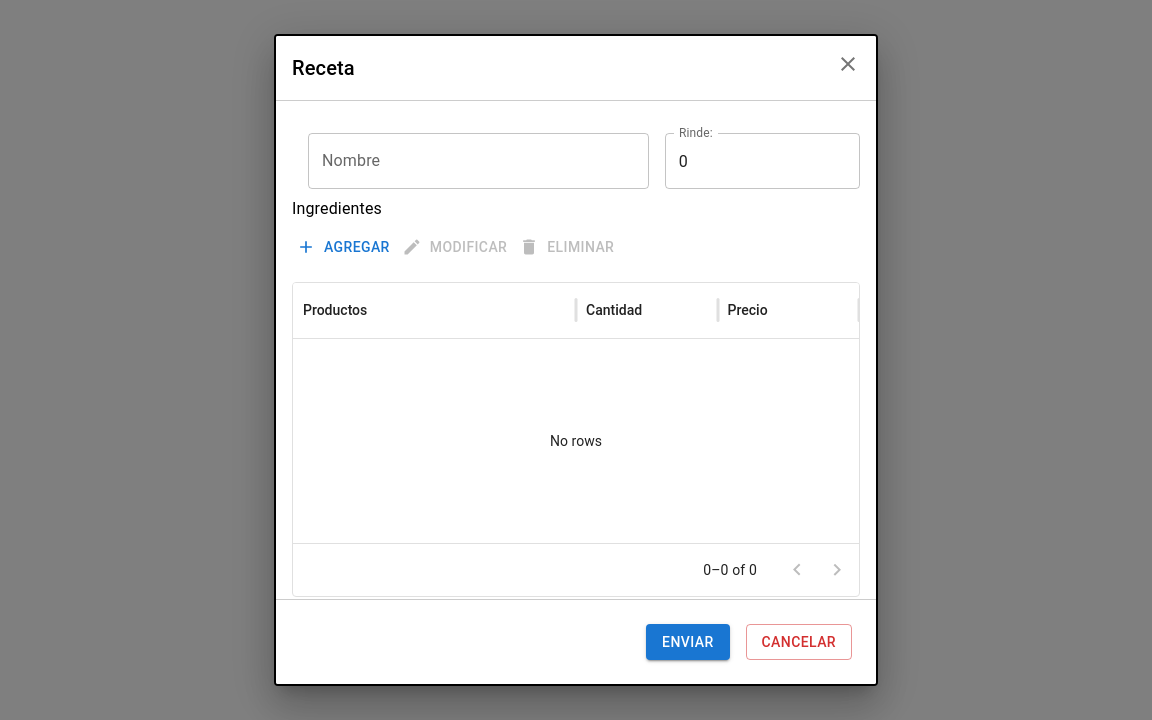
RecetaFormModal › debería mostrar error si se envía sin rinde
expect the button with test id "enviar-btn" is shown: met, box [646,624,730,660]
Step 1. Type "Torta" into the field labelled "Nombre" → coordinates (478, 161), box [308,133,649,189]
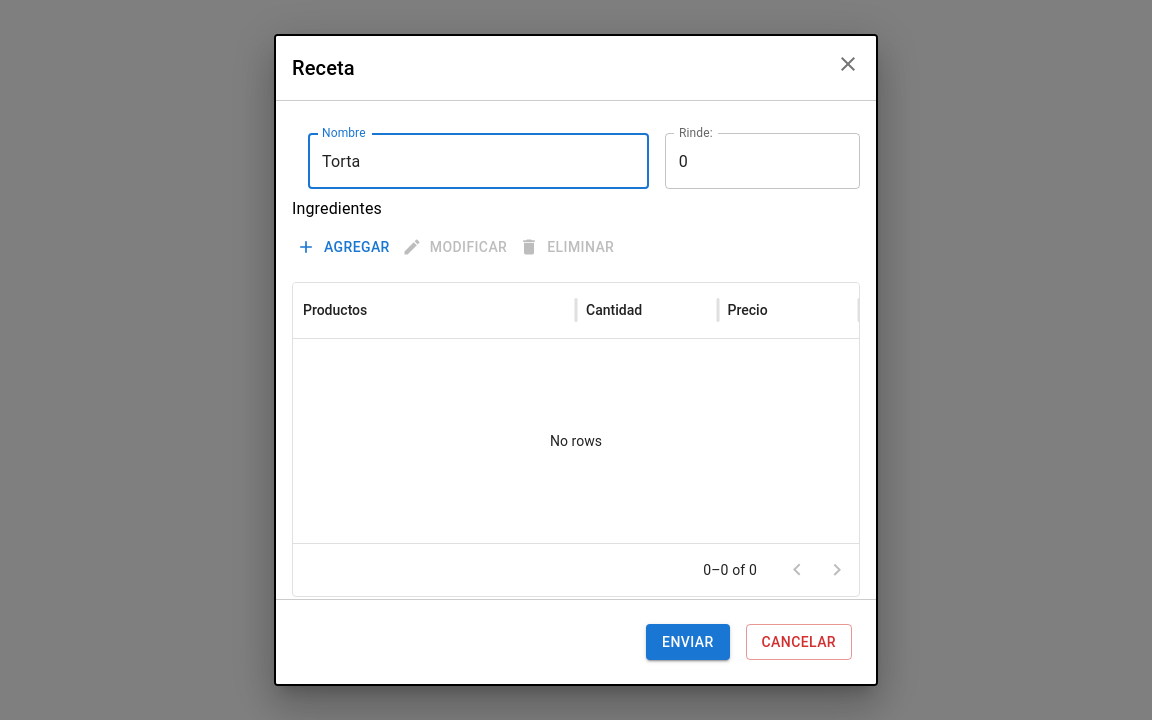
Step 2. Click the button with test id "enviar-btn" → coordinates (688, 642), box [646,624,730,660]
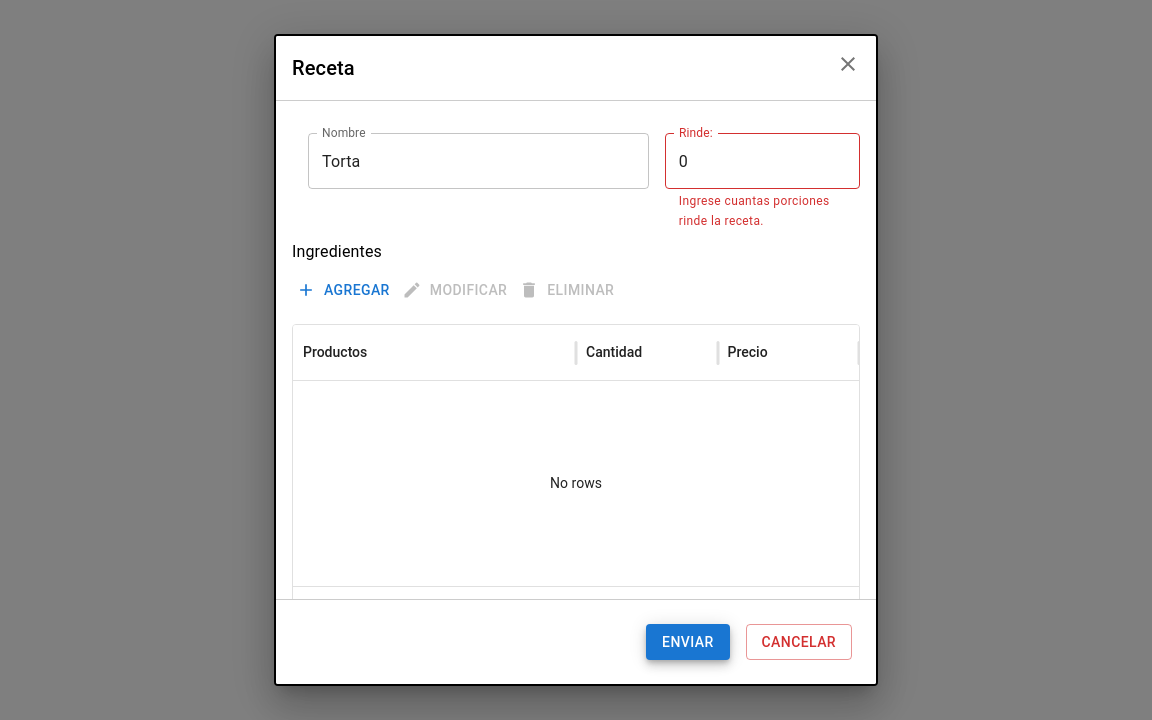
expect the text "Ingrese cuantas porciones rinde la receta." is shown: met, box [679,192,846,232]
